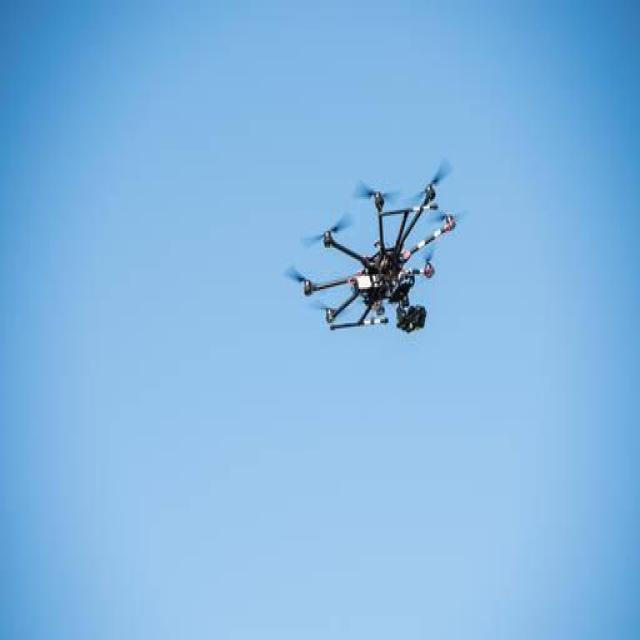drone: (303, 177, 457, 338)
